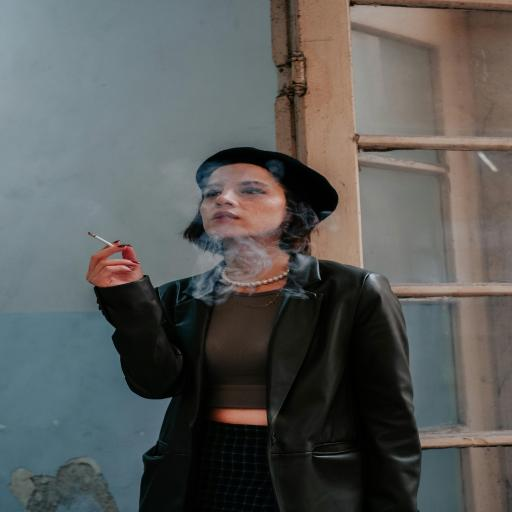terdeteksi pegang rokok: (69, 216, 161, 302)
